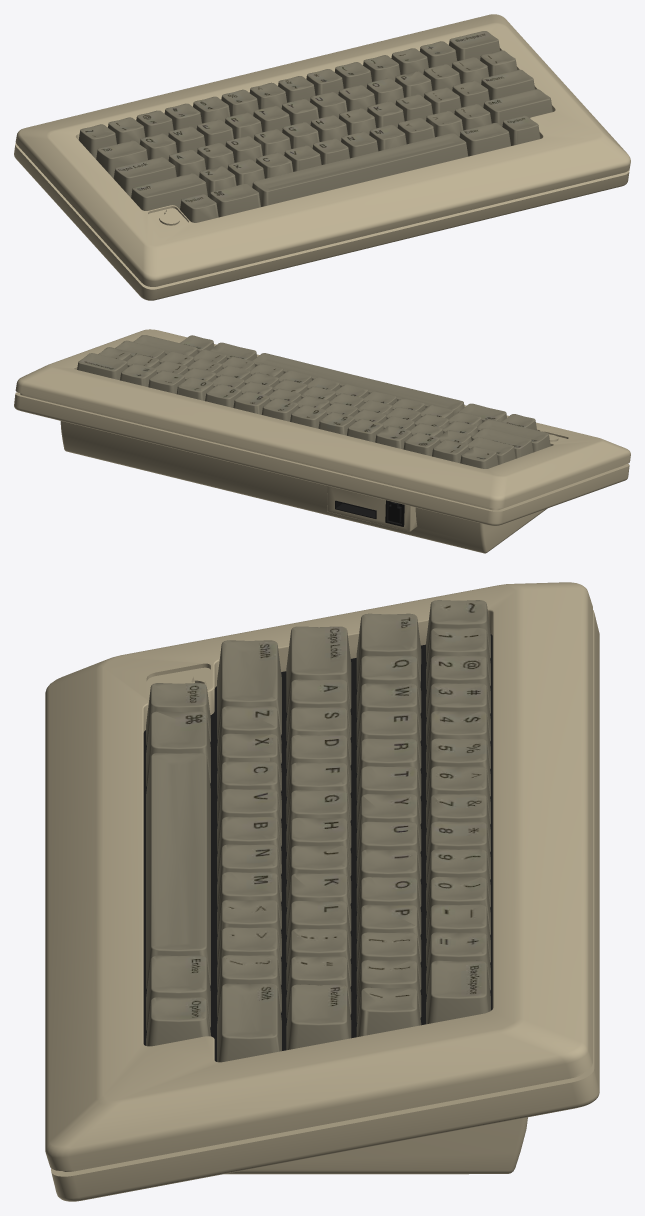
Rendered from keyboard.glb.
The picture shows the model from 3 angles, top to bottom: view 1: azimuth 30°, elevation 25°; view 2: azimuth 150°, elevation 25°; view 3: azimuth 270°, elevation 25°; orthographic projection. The views are drawn at different scales.
Visible parts, largest first — view 1: Keyboard_Lightplastic_0, '_Keys_0; view 2: Keyboard_Lightplastic_0, '_Keys_0, Keyboard_Blackplastic_0; view 3: Keyboard_Lightplastic_0, '_Keys_0, Keyboard_Blackplastic_0.
Part boxes in pixels (x1,y1,x2,y2): Keyboard_Lightplastic_0: (14,14,630,300); '_Keys_0: (78,31,552,222); Keyboard_Lightplastic_0: (14,329,630,553); '_Keys_0: (77,335,550,468); Keyboard_Blackplastic_0: (335,500,404,526); Keyboard_Lightplastic_0: (45,582,599,1201); '_Keys_0: (146,600,490,1062); Keyboard_Blackplastic_0: (143,634,492,1061).
Bounding box in the file's own units: 35.62 × 6.04 × 17.57.
3 materials, 1 textured.
